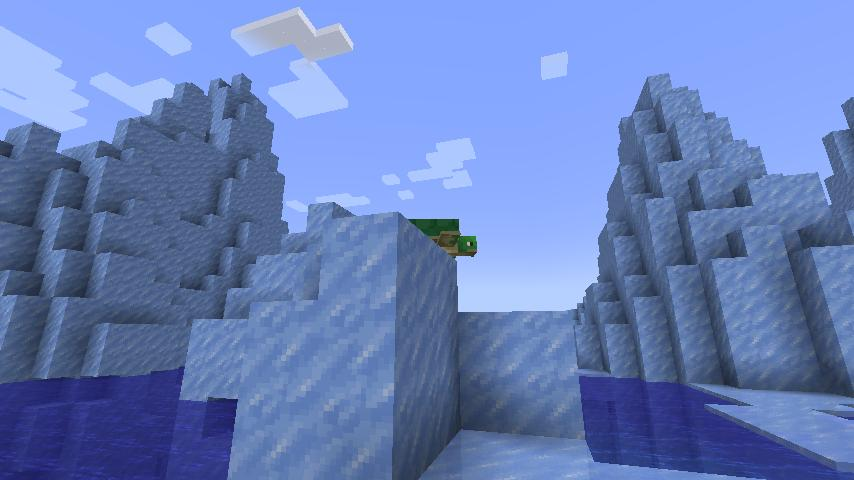turtle: (400, 215, 480, 262)
